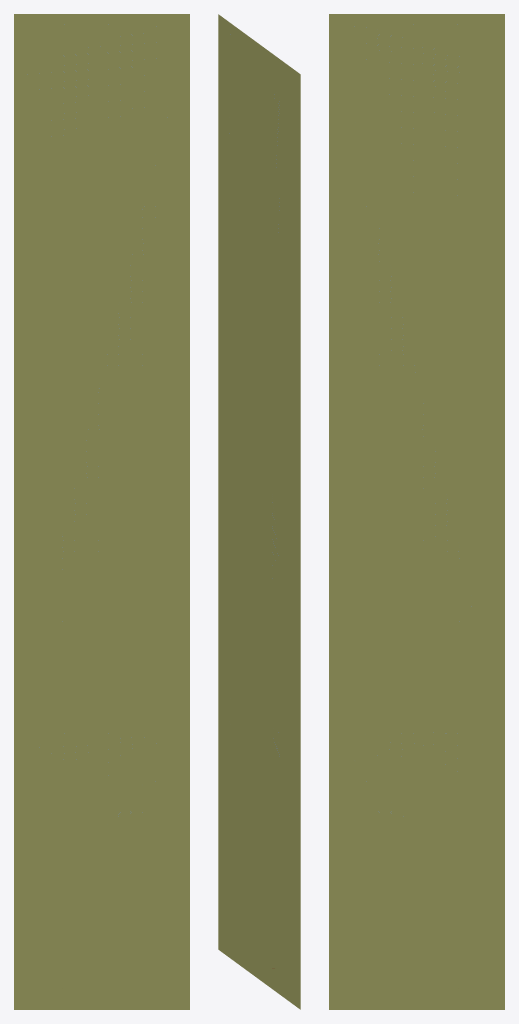
3 views of the same model, side by side, from view 1: azimuth 90°, elevation 25°; view 2: azimuth 210°, elevation 25°; view 3: azimuth 270°, elevation 25° (orthographic). The views are drawn at different scales.
Size of the model in its own units: 0 by 3.12 by 0.5.
1 material, 1 textured.
